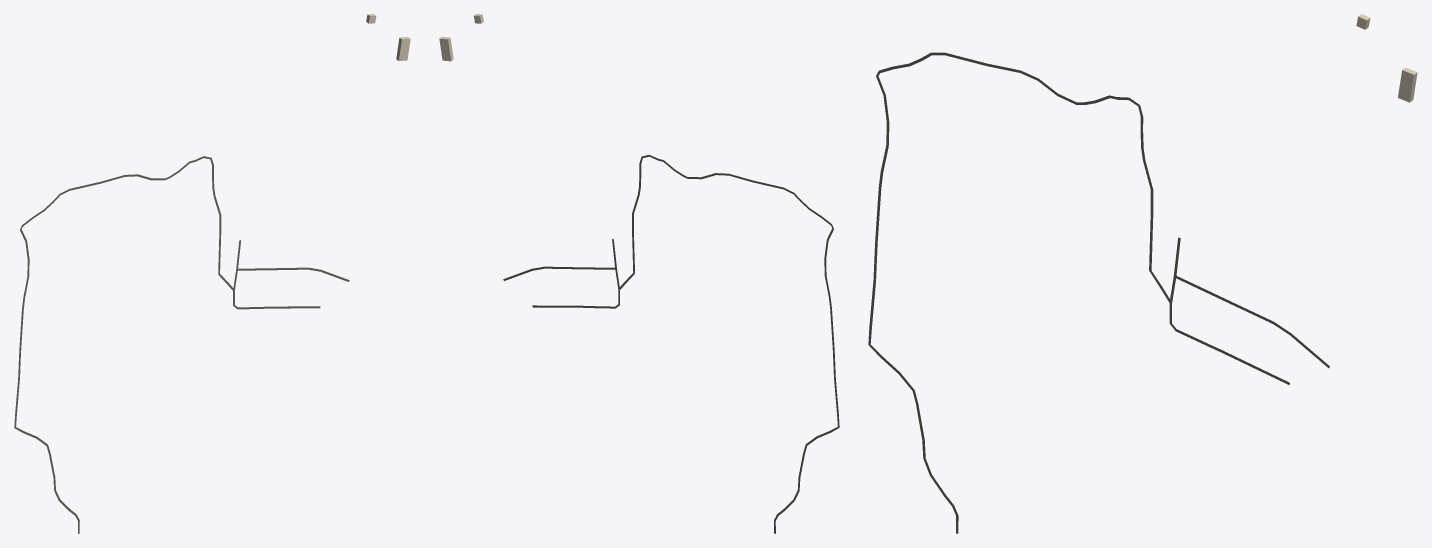
File: historic-palestine-17_36_3586_3306.glb
3 renders of one model, left to right at view 1: azimuth 30°, elevation 25°; view 2: azimuth 150°, elevation 25°; view 3: azimuth 330°, elevation 25°, orthographic. The views are drawn at different scales.
Parts seen in each view (by area): view 1: Road .002; view 2: Road .002; view 3: Road .002, Road .001.
Boxes of the visible parts, x1,y1,x2,y2 form: Road .002: (14,156,234,533); Road .002: (620,154,839,533); Road .002: (868,52,1171,533); Road .001: (1169,237,1289,385).
Bounding box in the file's own units: 674 × 725 × 8.7.
